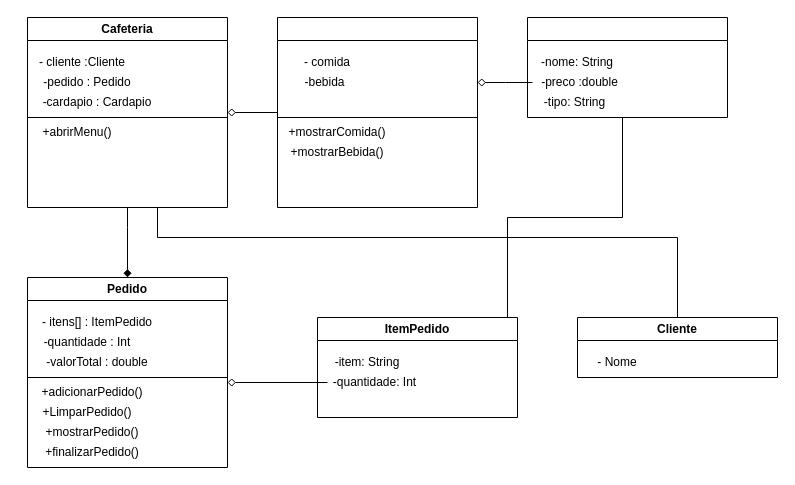
The diagram is 795 pixels wide and 485 high, and some of its shapes have lost their labels. Each missing label, with the box of its shape:
Cardapio: (276, 16, 478, 208)
ItemCardapio: (526, 16, 728, 118)
